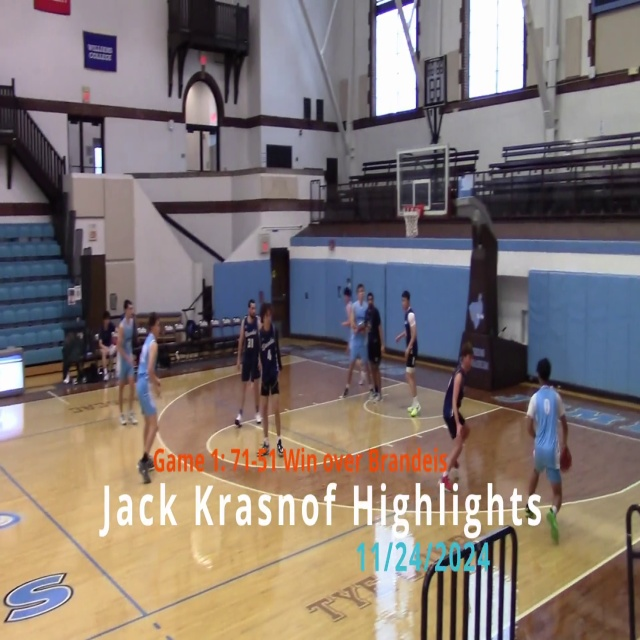Basketball: (559, 446, 572, 472)
